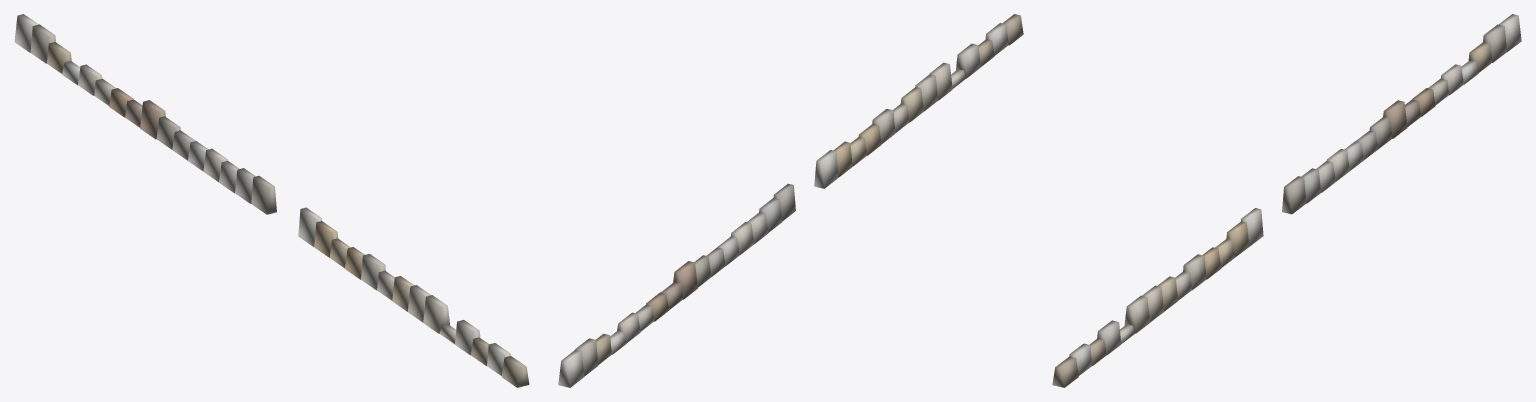
File: farm_16_18_collision.glb
3 views of the same model, side by side, from view 1: azimuth 30°, elevation 25°; view 2: azimuth 150°, elevation 25°; view 3: azimuth 330°, elevation 25° (orthographic). The views are drawn at different scales.
Visible parts, largest first — view 1: geometry_0; view 2: geometry_0; view 3: geometry_0.
Part boxes in pixels (box(x1,y1,x2,y2)): geometry_0: box(14, 14, 529, 387); geometry_0: box(558, 14, 1023, 387); geometry_0: box(1052, 14, 1521, 387).
Bounding box in the file's own units: 1.78 × 1.7 × 49.8.
